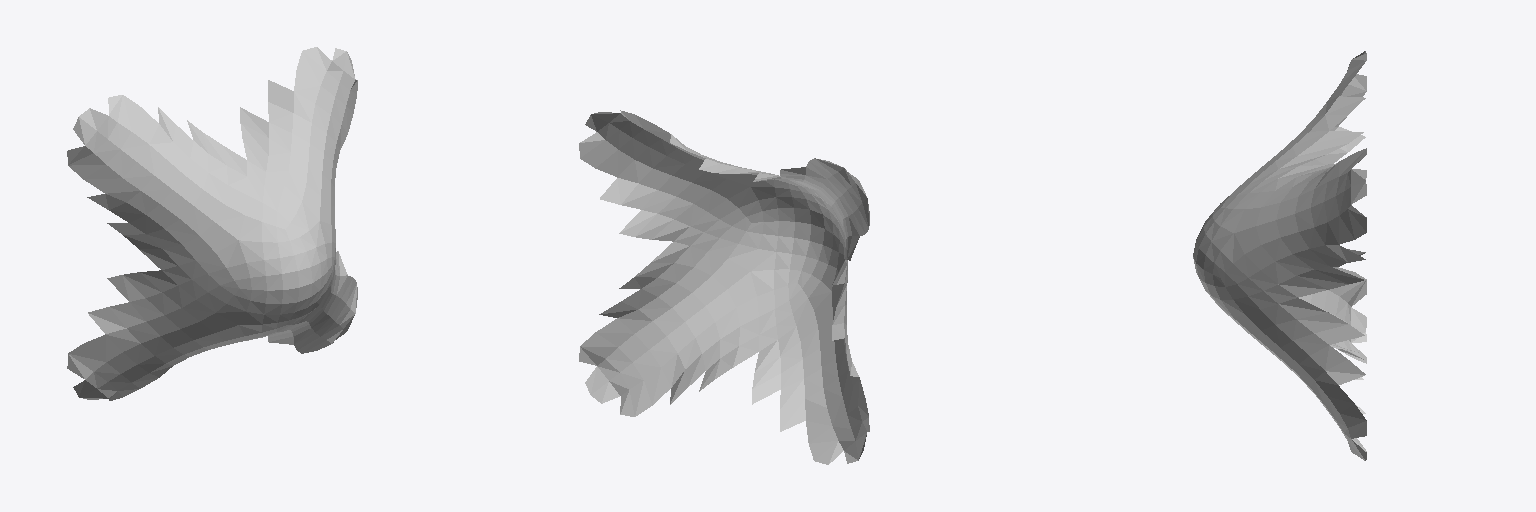
The model's file is star_new_opt.obj.
3 renders of one model, left to right at view 1: azimuth 30°, elevation 25°; view 2: azimuth 150°, elevation 25°; view 3: azimuth 270°, elevation 25°, orthographic.
Visible parts, largest first — view 1: [local-path]\Google_Drive\PS_structures\source\samples/star_new_; view 2: [local-path]\Google_Drive\PS_structures\source\samples/star_new_; view 3: [local-path]\Google_Drive\PS_structures\source\samples/star_new_.
Boxes of the visible parts, x1=… form: [local-path]\Google_Drive\PS_structures\source\samples/star_new_: x1=67, y1=47, x2=357, y2=400; [local-path]\Google_Drive\PS_structures\source\samples/star_new_: x1=579, y1=110, x2=869, y2=464; [local-path]\Google_Drive\PS_structures\source\samples/star_new_: x1=1193, y1=51, x2=1366, y2=460.
Bounding box in the file's own units: 15.93 × 15.93 × 8.26.